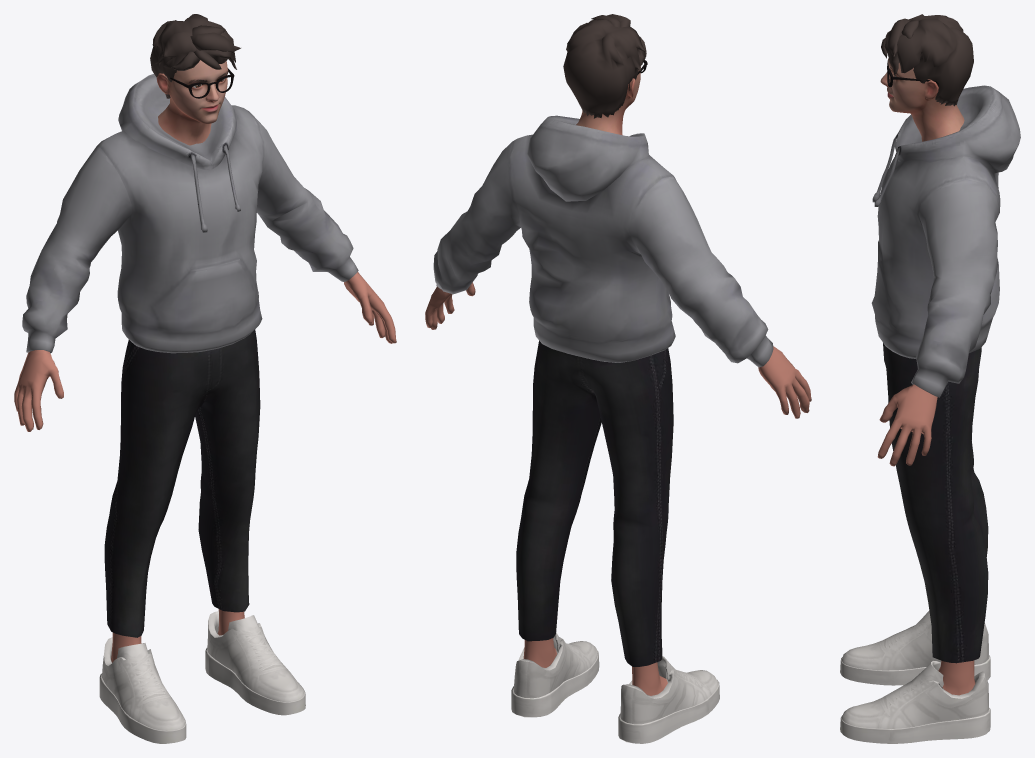
Rendered from avatar-transformed.glb.
3 renders of one model, left to right at view 1: azimuth 30°, elevation 25°; view 2: azimuth 150°, elevation 25°; view 3: azimuth 270°, elevation 25°, orthographic.
Parts seen in each view (by area): view 1: Wolf3D_Outfit_Top, Wolf3D_Outfit_Bottom, Wolf3D_Outfit_Footwear, Wolf3D_Body, Wolf3D_Head, Wolf3D_Hair; view 2: Wolf3D_Outfit_Top, Wolf3D_Outfit_Bottom, Wolf3D_Outfit_Footwear, Wolf3D_Hair, Wolf3D_Body, Wolf3D_Head; view 3: Wolf3D_Outfit_Top, Wolf3D_Outfit_Bottom, Wolf3D_Outfit_Footwear, Wolf3D_Hair, Wolf3D_Body, Wolf3D_Head.
Part boxes in pixels (x1,y1,x2,y2): Wolf3D_Outfit_Top: (22,74,358,353); Wolf3D_Outfit_Bottom: (104,329,260,637); Wolf3D_Outfit_Footwear: (99,611,305,743); Wolf3D_Body: (14,272,396,662); Wolf3D_Head: (156,60,228,145); Wolf3D_Hair: (150,14,240,98); Wolf3D_Outfit_Top: (433,115,773,367); Wolf3D_Outfit_Bottom: (516,340,673,666); Wolf3D_Outfit_Footwear: (511,632,719,743); Wolf3D_Hair: (563,14,646,118); Wolf3D_Body: (425,282,811,695); Wolf3D_Head: (576,66,640,135); Wolf3D_Outfit_Top: (871,85,1020,397); Wolf3D_Outfit_Bottom: (883,343,988,663); Wolf3D_Outfit_Footwear: (840,611,990,743); Wolf3D_Hair: (881,14,973,106); Wolf3D_Body: (877,384,975,695); Wolf3D_Head: (880,58,964,141).
Bounding box in the file's own units: 1.06 × 1.86 × 0.4455.
9 materials, 9 textured.
